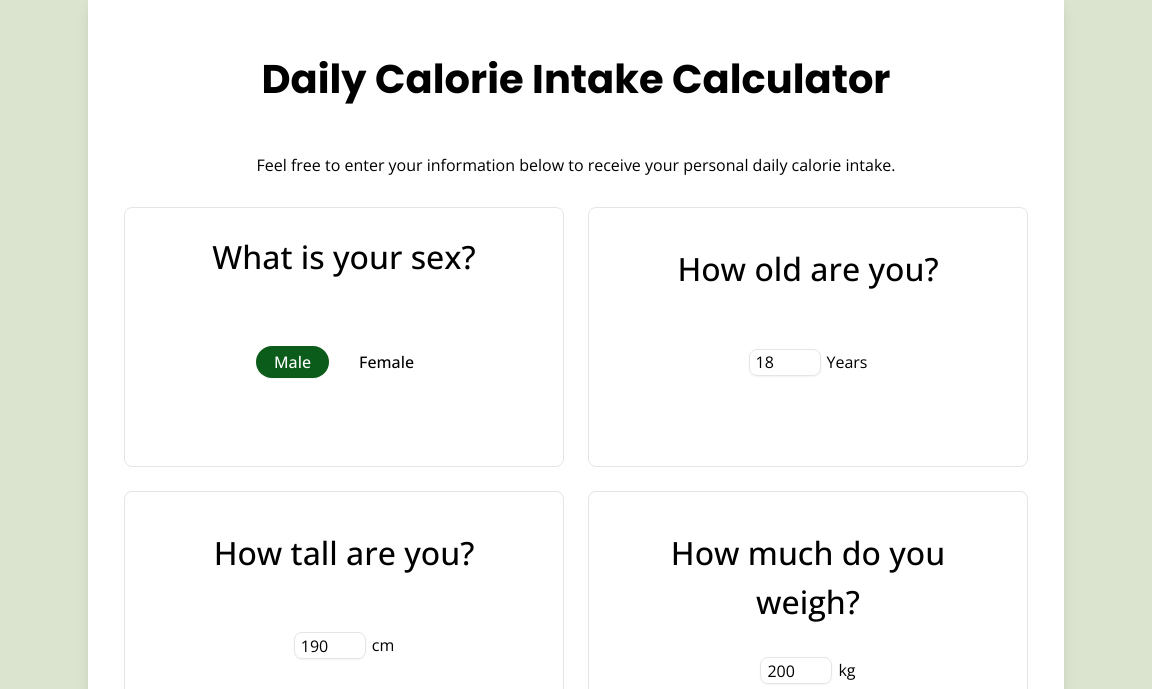
Test: Home Component Validation Tests › shows error if age is too low
The width and height of the screenshot is (1152, 689).
Replace the text in the number field labelled "Years" with "15" at (784, 362), box [748,349,820,376]
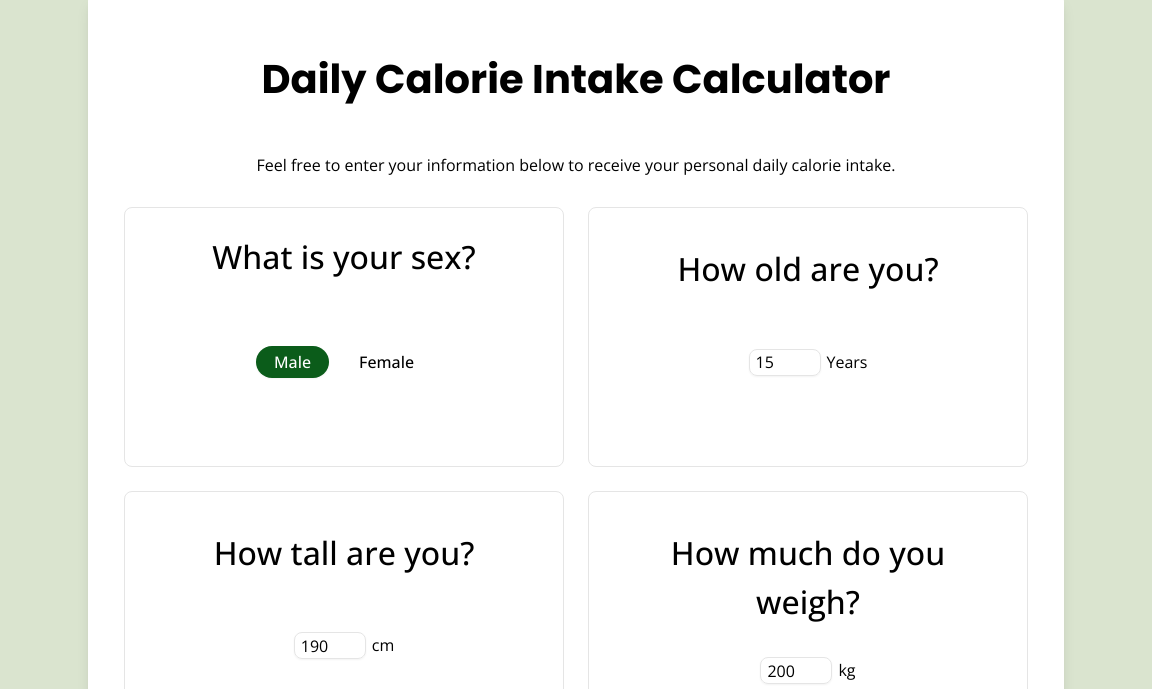
Replace the text in the number field labelled "cm" with "170" at (330, 646), box [294,632,366,659]
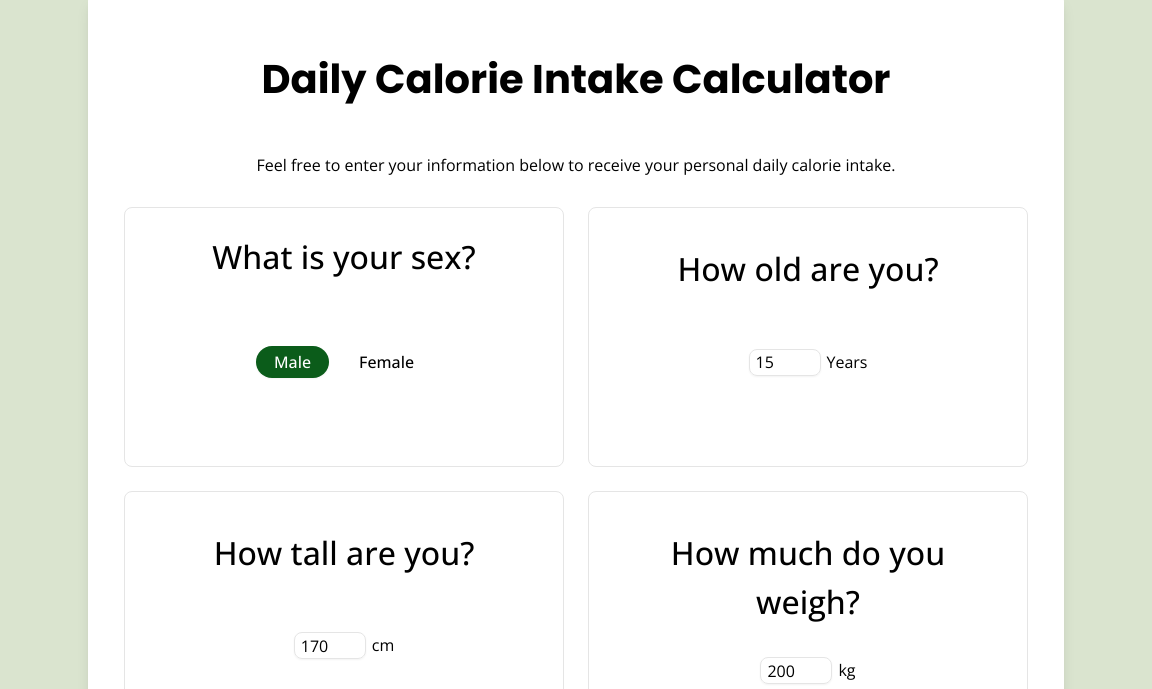
Replace the text in the number field labelled "kg" with "60" at (796, 671), box [760,657,832,684]
(page scrolled)
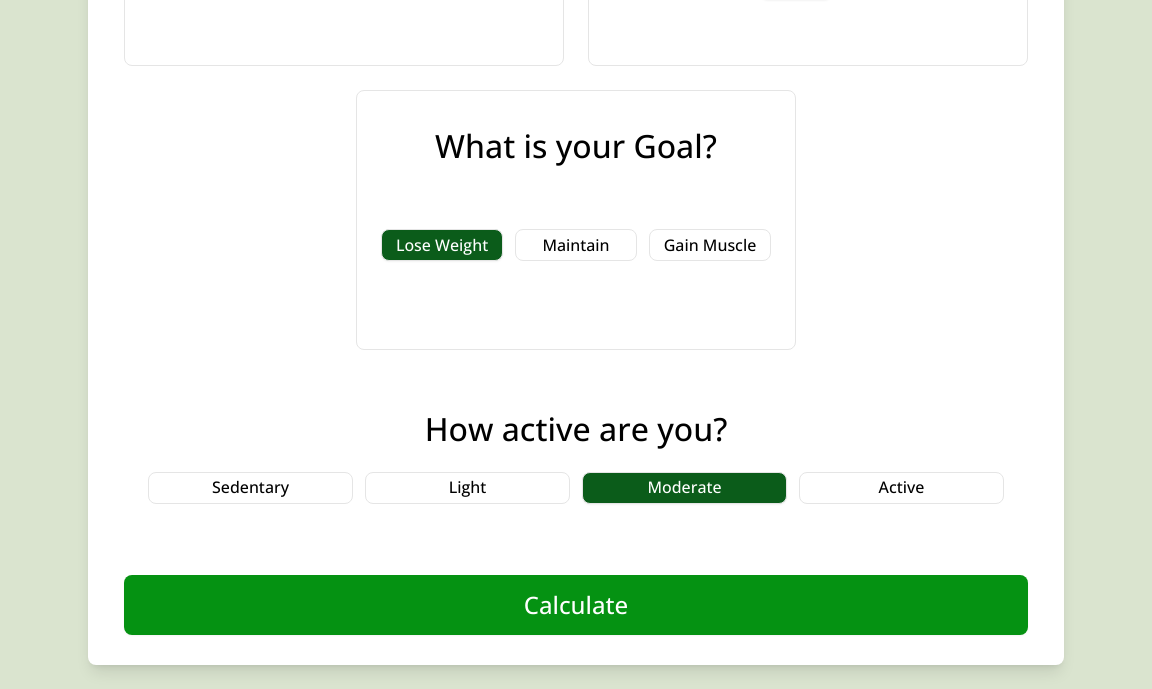
Click the button "Calculate" at (576, 604), box [124,574,1028,634]
(page scrolled)
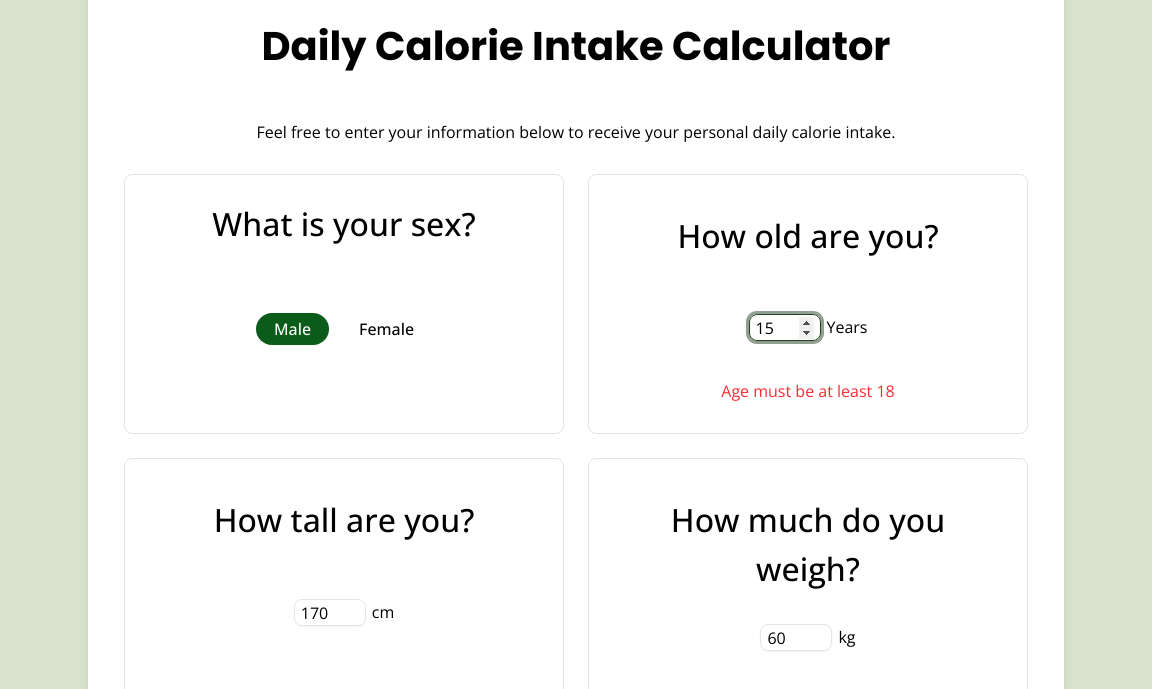
Result: the text "Age must be at least 18" is shown at [721,380,895,403]
